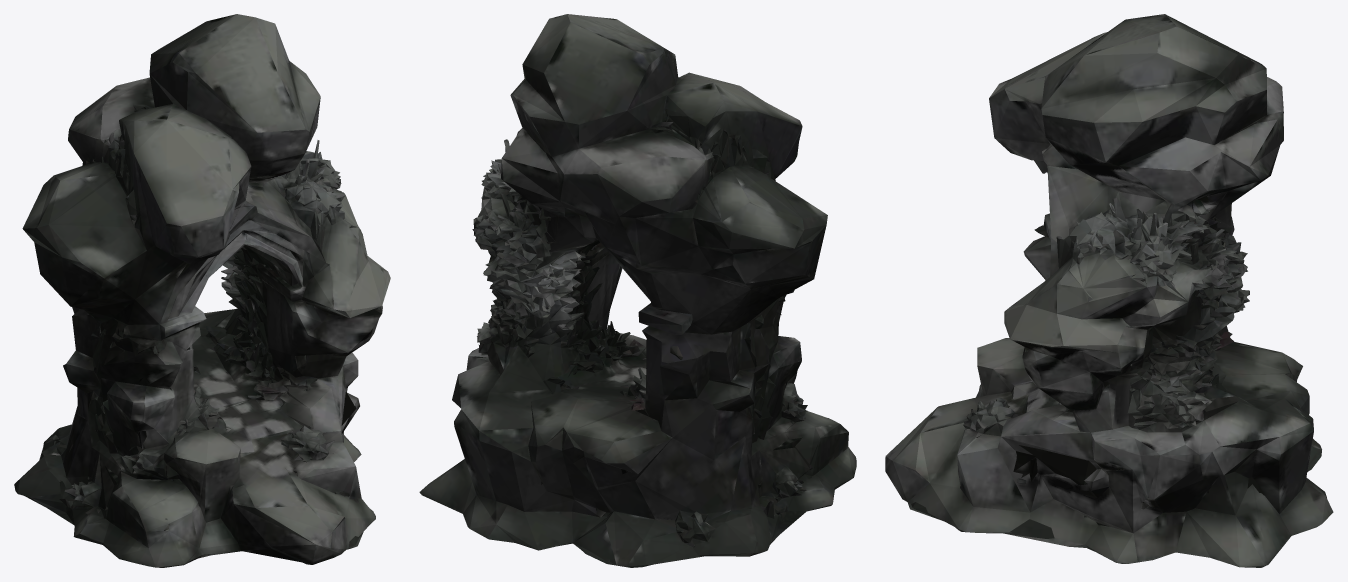
The model's file is basalt_cluster_01.glb.
The picture shows the model from 3 angles, left to right: view 1: azimuth 30°, elevation 25°; view 2: azimuth 150°, elevation 25°; view 3: azimuth 270°, elevation 25°; orthographic projection. The views are drawn at different scales.
Visible parts, largest first — view 1: geometry_0; view 2: geometry_0; view 3: geometry_0.
Boxes of the visible parts, <box> form: geometry_0: <box>14,14,390,567</box>; geometry_0: <box>419,14,856,567</box>; geometry_0: <box>885,14,1333,567</box>.
Size of the model in its own units: 0.7565 by 0.9983 by 0.8345.
1 material, 1 textured.
